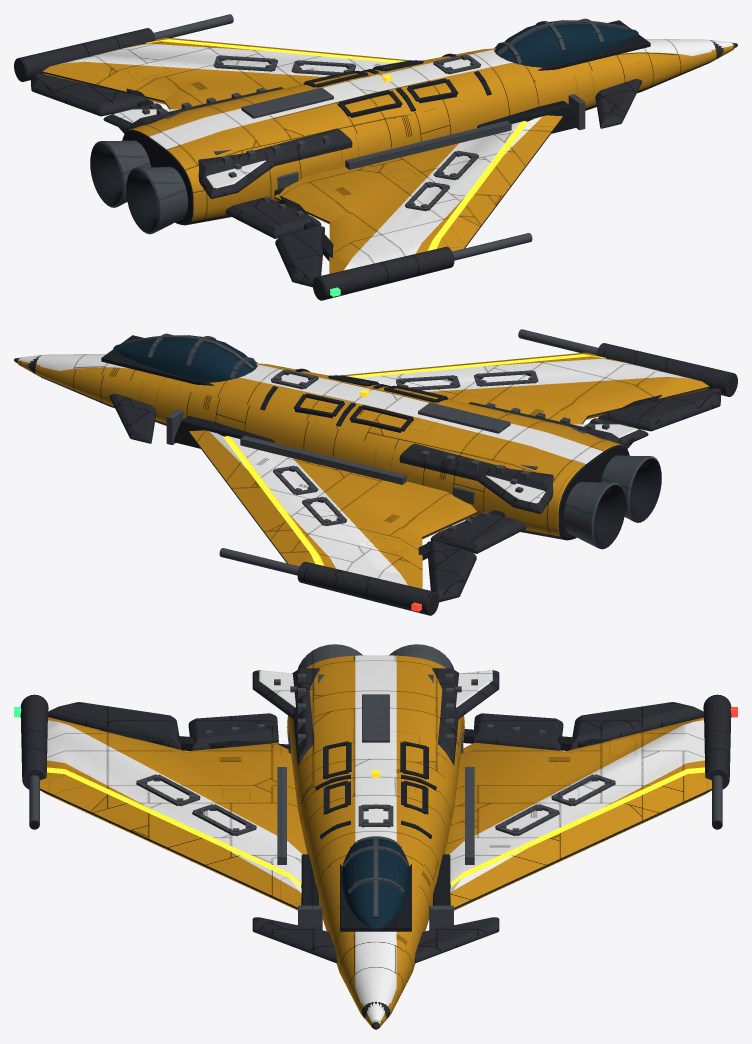
The model's file is hornet_production_v1.glb.
3 views of the same model, one above another, from view 1: azimuth 30°, elevation 25°; view 2: azimuth 150°, elevation 25°; view 3: azimuth 270°, elevation 25° (orthographic). The views are drawn at different scales.
Parts seen in each view (by area): view 1: LOD0_Hull, LOD0_Livery, LOD0_Mechanical, LOD0_MechanicalDark, LOD0_Armor, LOD0_MOTION_HORNET_FLAP_S_Armor, LOD0_CANOPY, LOD0_MOTION_HORNET_TIPPOD_S_Armor, LOD0_MOTION_HORNET_FLAP_P_HOOK_ARMOR_FLAP_Armor, LOD0_MOTION_HORNET_TIPPOD_P_HOOK_SECONDARY_TIPPOD_Armor, LOD0_Lights_Cyan_jacket, LOD0_MOTION_HORNET_CANARD_S_Armor (+2 smaller); view 2: LOD0_Hull, LOD0_Livery, LOD0_Mechanical, LOD0_MechanicalDark, LOD0_Armor, LOD0_CANOPY, LOD0_MOTION_HORNET_TIPPOD_P_HOOK_SECONDARY_TIPPOD_Armor, LOD0_MOTION_HORNET_FLAP_S_Armor, LOD0_MOTION_HORNET_TIPPOD_S_Armor, LOD0_MOTION_HORNET_FLAP_P_HOOK_ARMOR_FLAP_Armor, LOD0_MOTION_HORNET_FLAP_P_Armor, LOD0_Lights_Cyan_jacket (+3 smaller); view 3: LOD0_Hull, LOD0_Livery, LOD0_Mechanical, LOD0_MechanicalDark, LOD0_MOTION_HORNET_FLAP_S_Armor, LOD0_Armor, LOD0_CANOPY, LOD0_MOTION_HORNET_FLAP_P_HOOK_ARMOR_FLAP_Armor, LOD0_Lights_Cyan_jacket, LOD0_MOTION_HORNET_FLAP_P_Armor, LOD0_MOTION_HORNET_TIPPOD_P_HOOK_SECONDARY_TIPPOD_Armor, LOD0_MOTION_HORNET_TIPPOD_S_Armor (+2 smaller).
Boxes of the visible parts, x1=… form: LOD0_Hull: x1=42, y1=37, x2=734, y2=273; LOD0_Livery: x1=55, y1=39, x2=733, y2=270; LOD0_Mechanical: x1=91, y1=18, x2=628, y2=234; LOD0_MechanicalDark: x1=90, y1=20, x2=650, y2=261; LOD0_Armor: x1=42, y1=40, x2=737, y2=248; LOD0_MOTION_HORNET_FLAP_S_Armor: x1=225, y1=198, x2=324, y2=287; LOD0_CANOPY: x1=494, y1=20, x2=638, y2=67; LOD0_MOTION_HORNET_TIPPOD_S_Armor: x1=312, y1=246, x2=454, y2=300; LOD0_MOTION_HORNET_FLAP_P_HOOK_ARMOR_FLAP_Armor: x1=30, y1=73, x2=154, y2=116; LOD0_MOTION_HORNET_TIPPOD_P_HOOK_SECONDARY_TIPPOD_Armor: x1=14, y1=28, x2=155, y2=81; LOD0_Lights_Cyan_jacket: x1=146, y1=39, x2=529, y2=250; LOD0_MOTION_HORNET_CANARD_S_Armor: x1=595, y1=79, x2=642, y2=128; LOD0_Hull: x1=17, y1=352, x2=709, y2=588; LOD0_Livery: x1=18, y1=354, x2=696, y2=585; LOD0_Mechanical: x1=123, y1=333, x2=660, y2=549; LOD0_MechanicalDark: x1=101, y1=335, x2=661, y2=560; LOD0_Armor: x1=14, y1=355, x2=709, y2=563; LOD0_CANOPY: x1=113, y1=335, x2=257, y2=382; LOD0_MOTION_HORNET_TIPPOD_P_HOOK_SECONDARY_TIPPOD_Armor: x1=297, y1=561, x2=439, y2=615; LOD0_MOTION_HORNET_FLAP_S_Armor: x1=589, y1=388, x2=721, y2=448; LOD0_MOTION_HORNET_TIPPOD_S_Armor: x1=596, y1=343, x2=737, y2=396; LOD0_MOTION_HORNET_FLAP_P_HOOK_ARMOR_FLAP_Armor: x1=427, y1=541, x2=476, y2=602; LOD0_MOTION_HORNET_FLAP_P_Armor: x1=430, y1=513, x2=526, y2=553; LOD0_Lights_Cyan_jacket: x1=222, y1=354, x2=605, y2=565; LOD0_Hull: x1=40, y1=655, x2=711, y2=1026; LOD0_Livery: x1=47, y1=655, x2=704, y2=1023; LOD0_Mechanical: x1=136, y1=644, x2=615, y2=930; LOD0_MechanicalDark: x1=99, y1=729, x2=610, y2=1028; LOD0_MOTION_HORNET_FLAP_S_Armor: x1=48, y1=702, x2=278, y2=750; LOD0_Armor: x1=40, y1=668, x2=711, y2=1029; LOD0_CANOPY: x1=341, y1=839, x2=410, y2=930; LOD0_MOTION_HORNET_FLAP_P_HOOK_ARMOR_FLAP_Armor: x1=570, y1=702, x2=703, y2=749; LOD0_Lights_Cyan_jacket: x1=47, y1=767, x2=704, y2=887; LOD0_MOTION_HORNET_FLAP_P_Armor: x1=473, y1=713, x2=563, y2=750; LOD0_MOTION_HORNET_TIPPOD_P_HOOK_SECONDARY_TIPPOD_Armor: x1=703, y1=694, x2=731, y2=789; LOD0_MOTION_HORNET_TIPPOD_S_Armor: x1=20, y1=694, x2=48, y2=789.
Size of what is drawn, in the model's own units: 9.84 by 1.46 by 8.8.
Materials: 11 (5 with a texture image).
